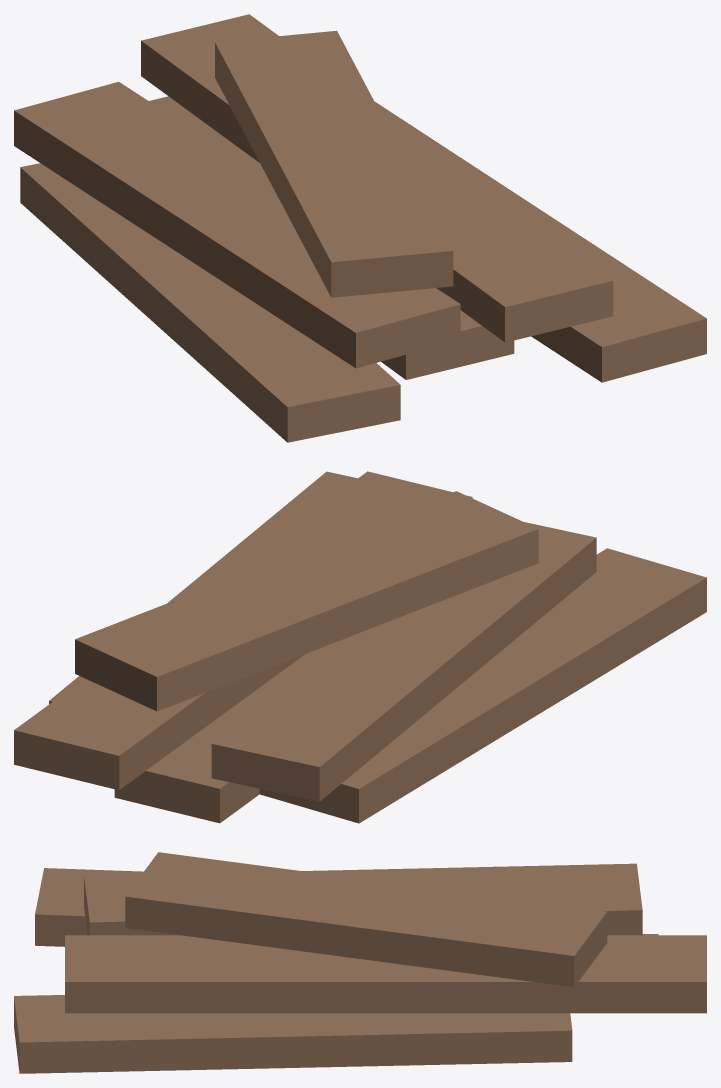
File: resource-planks.glb
3 views of the same model, one above another, from view 1: azimuth 30°, elevation 25°; view 2: azimuth 150°, elevation 25°; view 3: azimuth 270°, elevation 25° (orthographic). The views are drawn at different scales.
Bounding box in the file's own units: 0.3729 × 0.0936 × 0.626.
